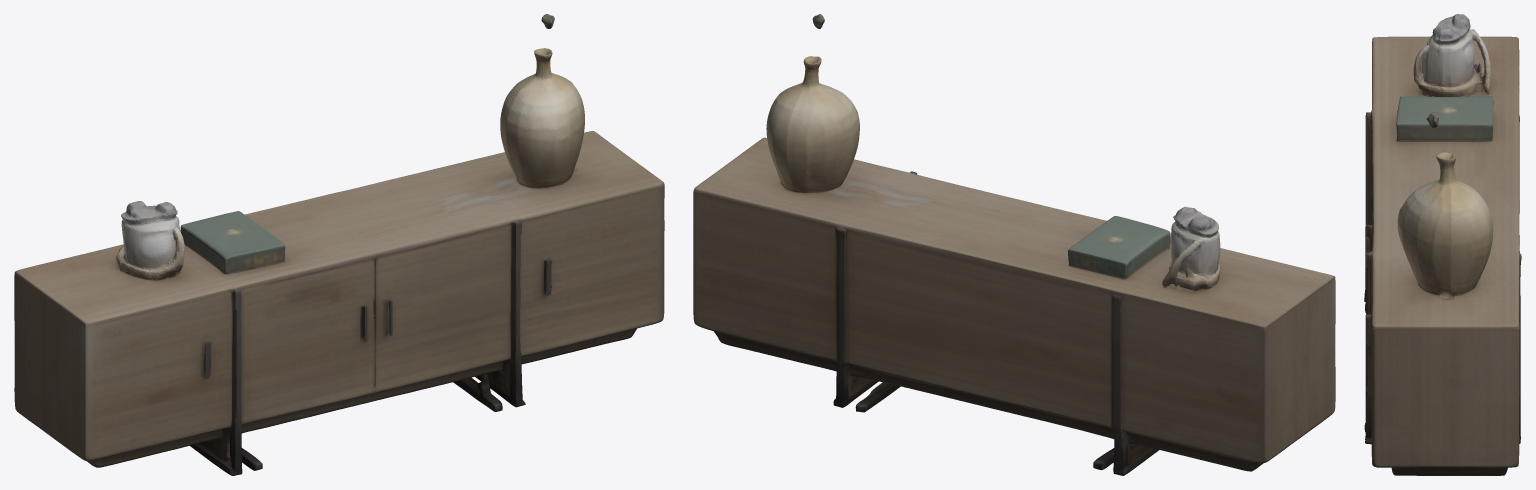
Rendered from multidiffusion_sam3d.glb.
3 renders of one model, left to right at view 1: azimuth 30°, elevation 25°; view 2: azimuth 150°, elevation 25°; view 3: azimuth 270°, elevation 25°, orthographic. The views are drawn at different scales.
Visible parts, largest first — view 1: world; view 2: world; view 3: world.
Part boxes in pixels (box(x1,y1,x2,y2)): world: box(14, 14, 664, 475); world: box(693, 14, 1335, 475); world: box(1364, 14, 1521, 475).
Bounding box in the file's own units: 1 × 0.5812 × 0.2298.
